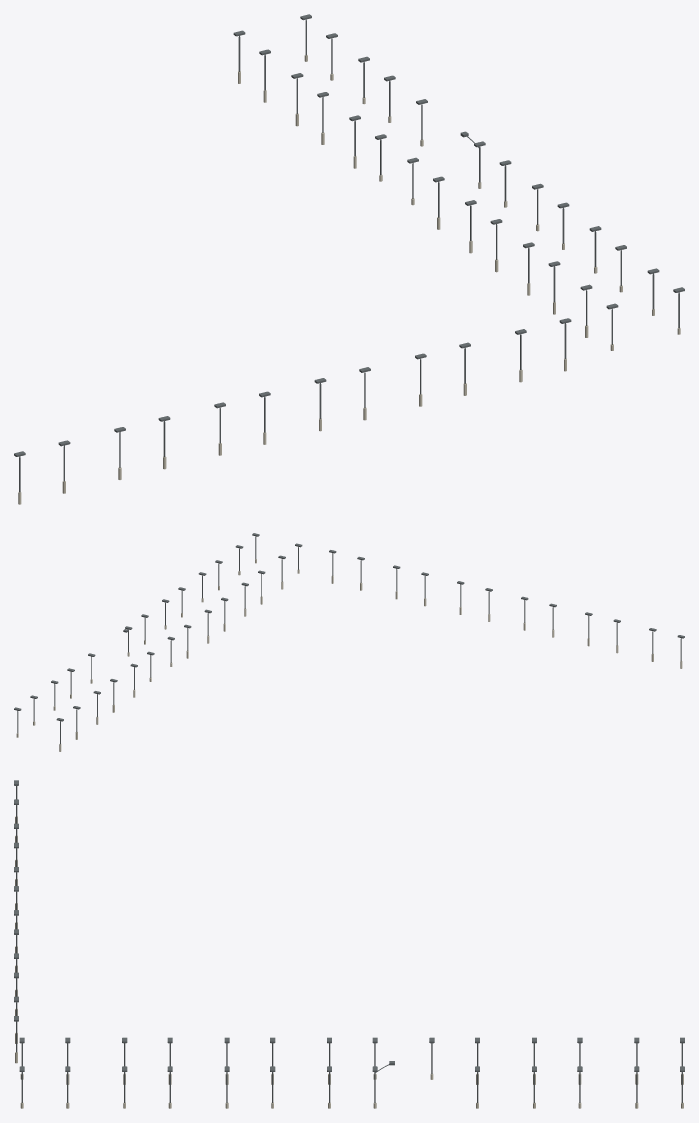
The picture shows the model from 3 angles, top to bottom: view 1: azimuth 30°, elevation 25°; view 2: azimuth 150°, elevation 25°; view 3: azimuth 270°, elevation 25°; orthographic projection. The views are drawn at different scales.
Visible parts, largest first — view 1: buildings_s_-11_-4_Dark_Metal, buildings_s_-11_-4_Warm_Limestone; view 2: buildings_s_-11_-4_Dark_Metal, buildings_s_-11_-4_Warm_Limestone; view 3: buildings_s_-11_-4_Dark_Metal, buildings_s_-11_-4_Warm_Limestone.
Part boxes in pixels (x1,y1,x2,y2): buildings_s_-11_-4_Dark_Metal: (14, 14, 684, 492); buildings_s_-11_-4_Warm_Limestone: (18, 55, 680, 504); buildings_s_-11_-4_Dark_Metal: (14, 533, 684, 744); buildings_s_-11_-4_Warm_Limestone: (16, 559, 682, 751); buildings_s_-11_-4_Dark_Metal: (14, 780, 684, 1103); buildings_s_-11_-4_Warm_Limestone: (15, 816, 683, 1108).
Size of the model in its own units: 121 by 9.45 by 118.
